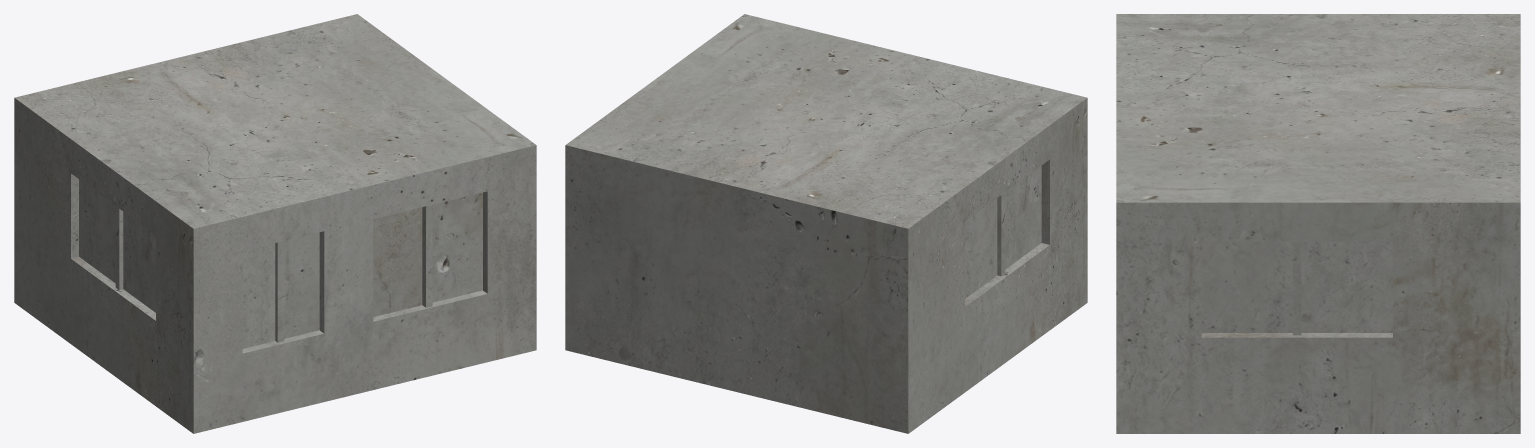
3 renders of one model, left to right at view 1: azimuth 30°, elevation 25°; view 2: azimuth 150°, elevation 25°; view 3: azimuth 270°, elevation 25°, orthographic. The views are drawn at different scales.
Visible parts, largest first — view 1: 3층; view 2: 3층; view 3: 3층.
Part boxes in pixels (x1,y1,x2,y2): 3층: (14,14,536,433); 3층: (565,14,1087,433); 3층: (1116,14,1520,433).
Size of the model in its own units: 210 by 120 by 190.
1 material, 1 textured.
